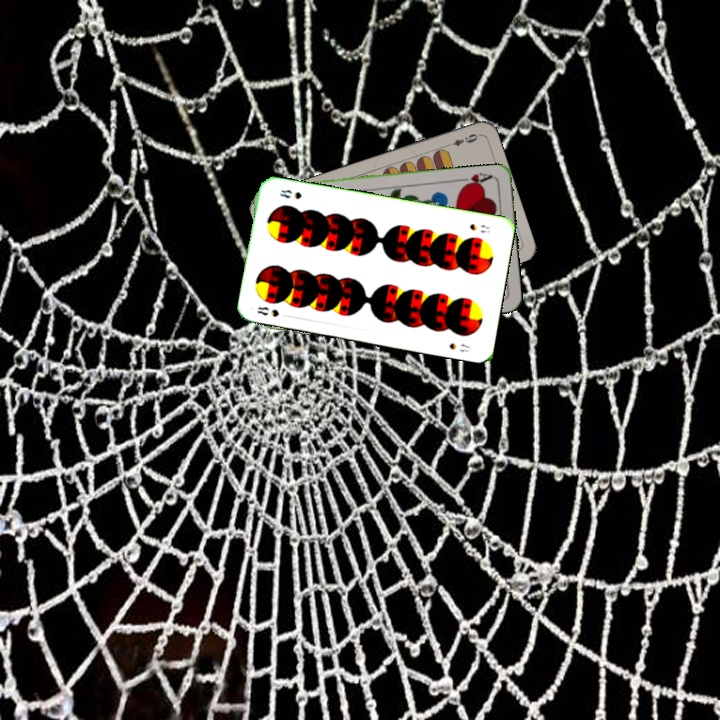E9: (442, 129, 482, 150)
HA: (455, 169, 495, 190)
S8: (254, 302, 282, 319), (466, 219, 492, 236)
